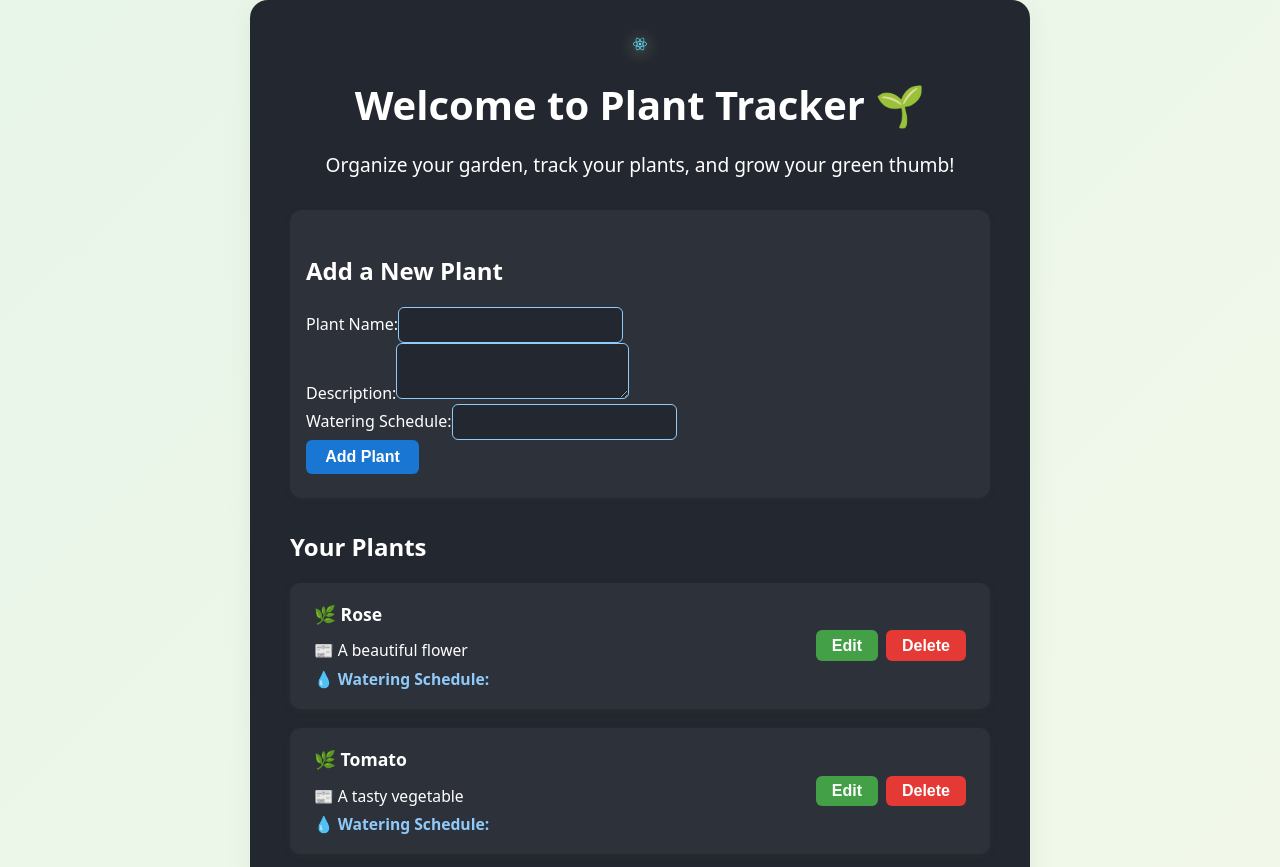
App Component Tests › shows error when deleting non-existent plant by ID
This screenshot has width=1280, height=867.
Expected: the text "Rose" is shown, top-left (340, 602), bottom-right (382, 626)
Click the button "Delete" in the row of "A beautiful flower" at (926, 646), box top-left (886, 630), bottom-right (966, 661)
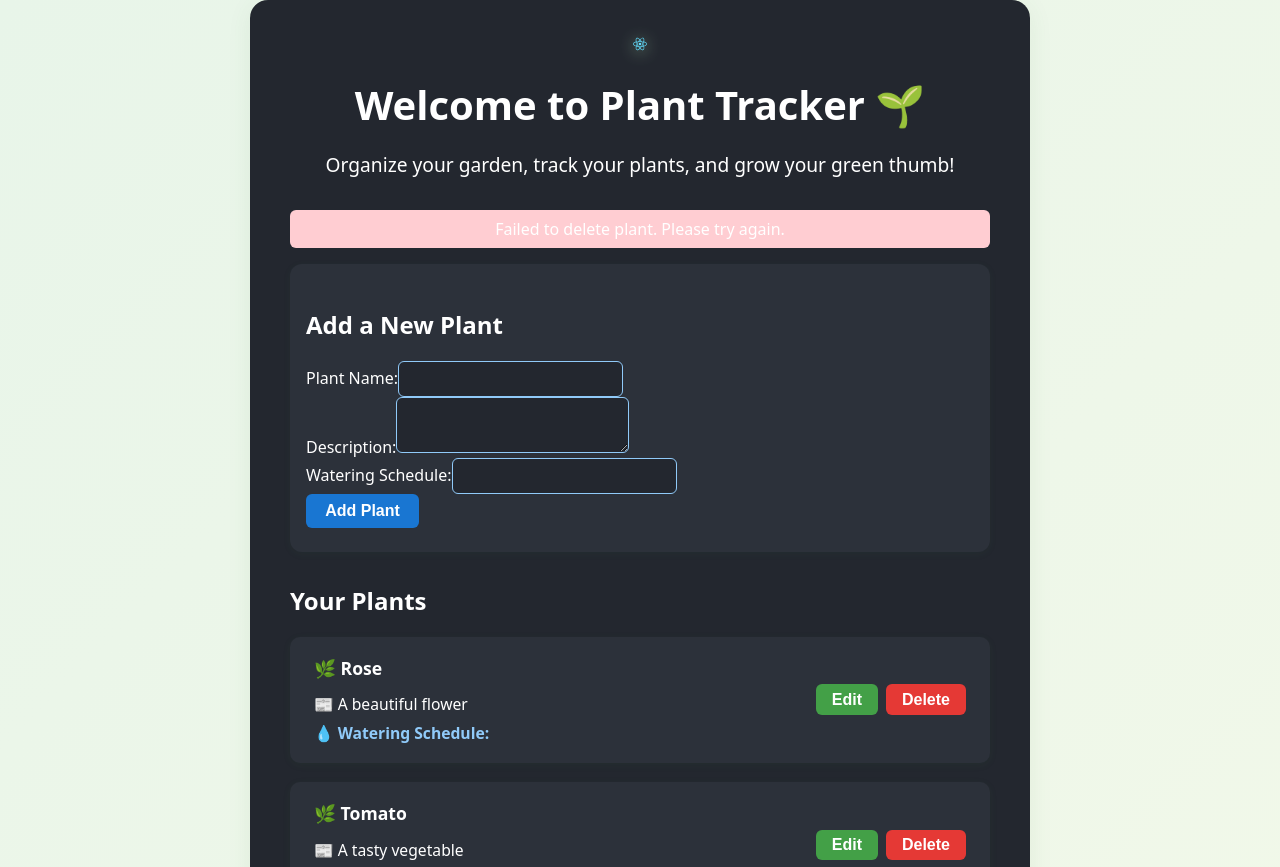
Expected: the text "Failed to delete plant. Please try again." is shown, top-left (290, 210), bottom-right (990, 248)
